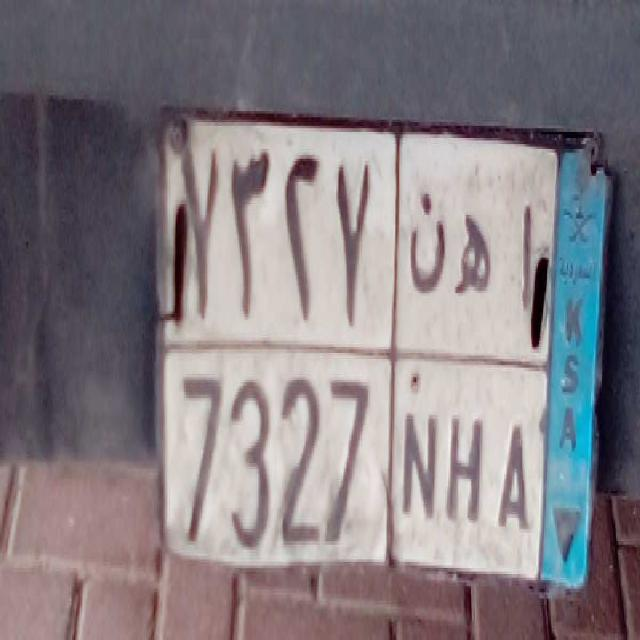license_plate: (170, 334, 538, 592)
